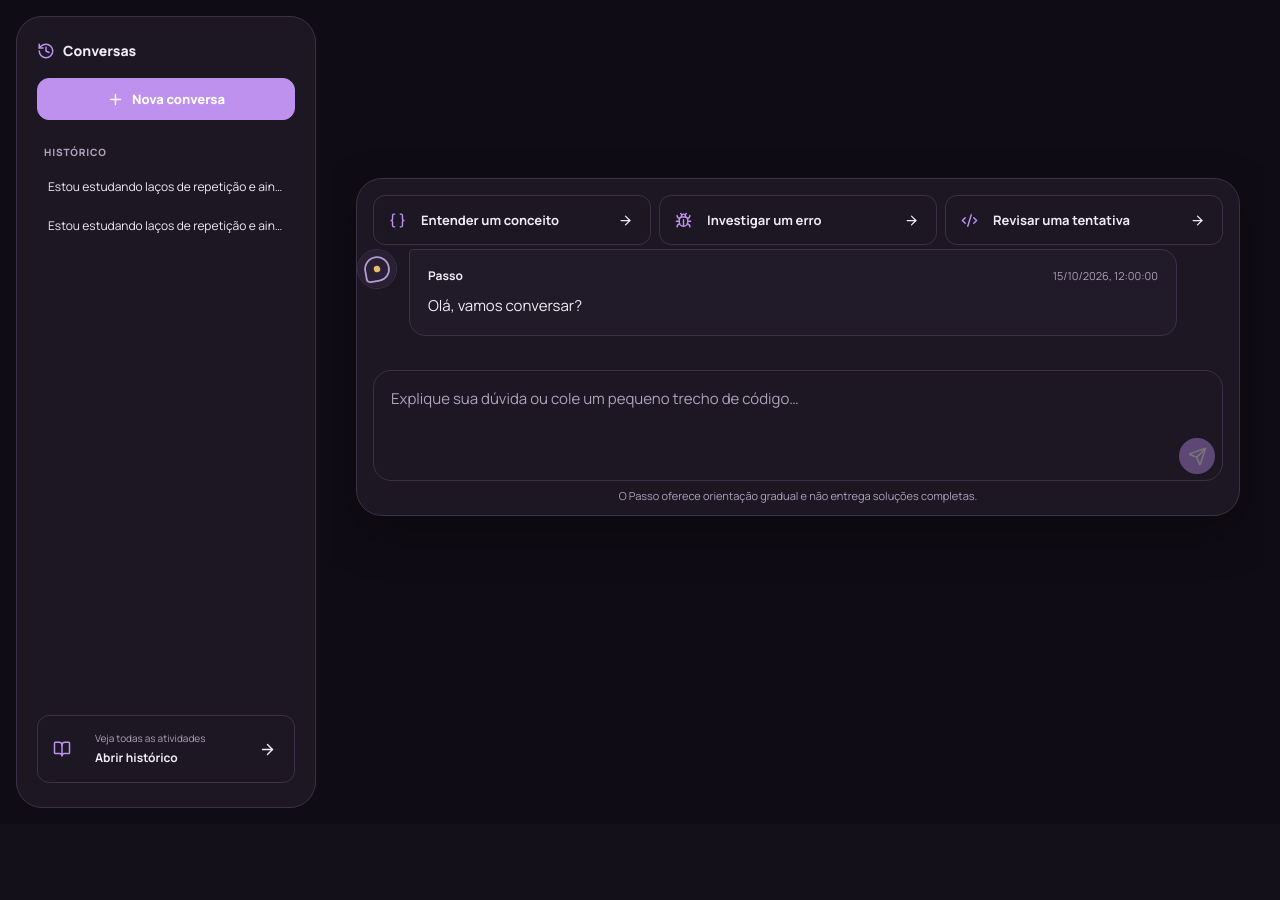
Test: ChatPage progressive layout › keeps suggestions available when reopening a conversation with only the greeting
Expected: the text "Olá, vamos conversar?" is shown, [428, 295, 582, 316]
Click the button "Entender um conceito" at (512, 220), box [373, 195, 651, 245]
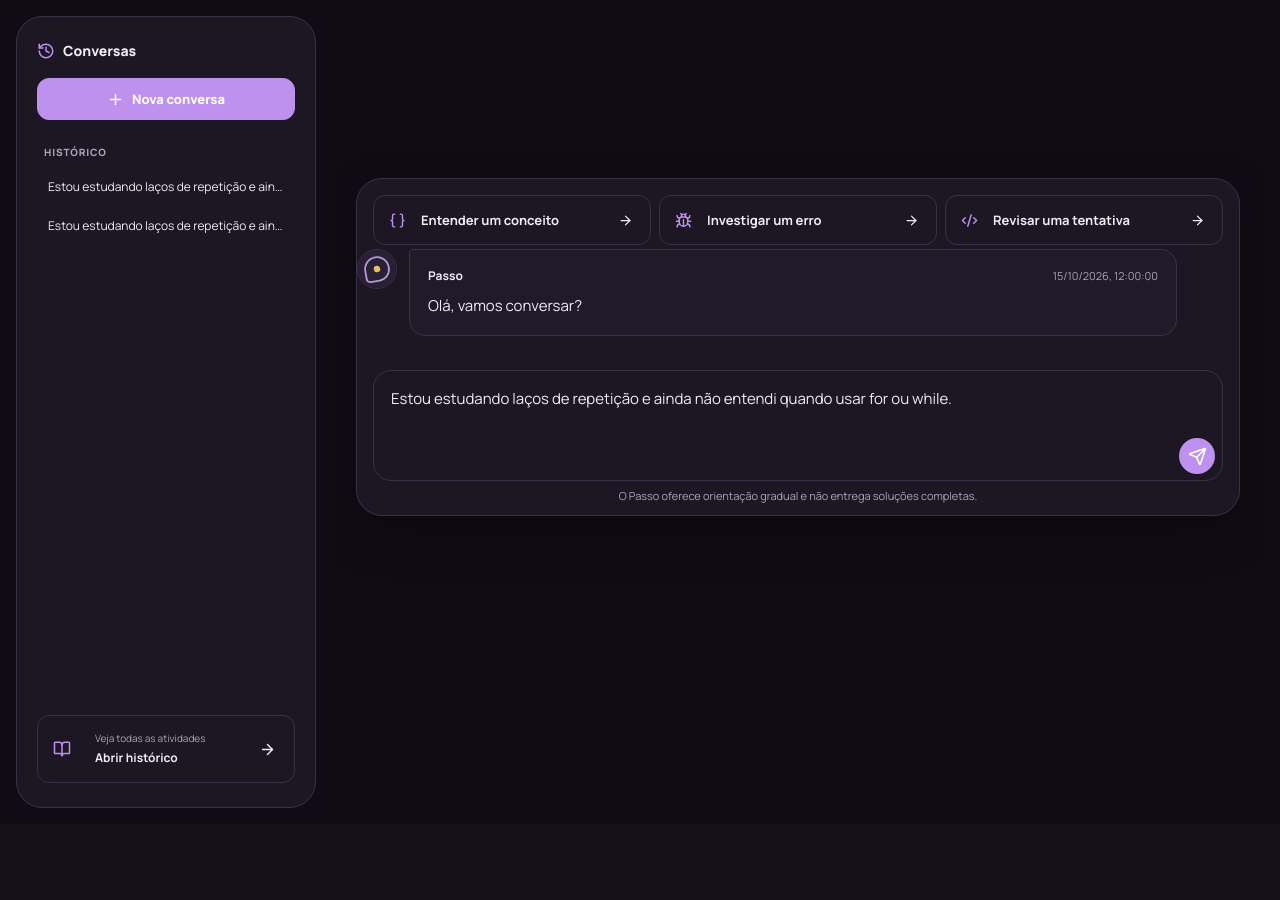
Result: the text box named "Sua mensagem para o tutor" holds "Estou estudando laços de repetição e ainda não entendi quando usar for ou while." at [374, 371, 1222, 429]
